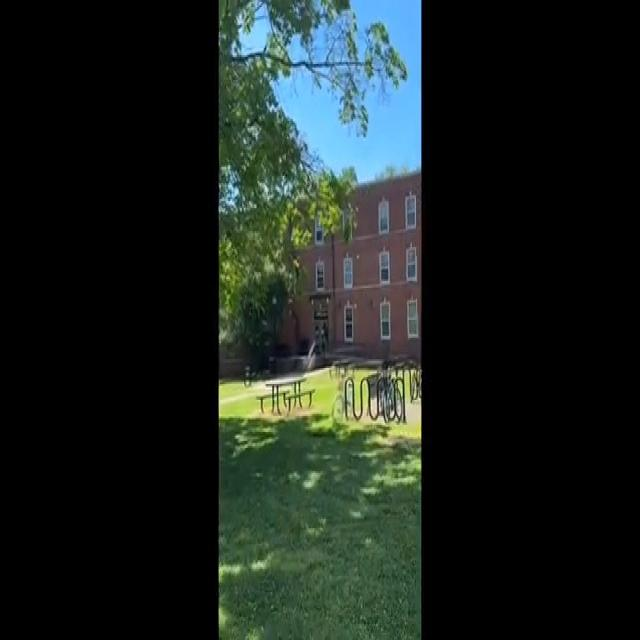drone: (286, 292, 304, 328)
